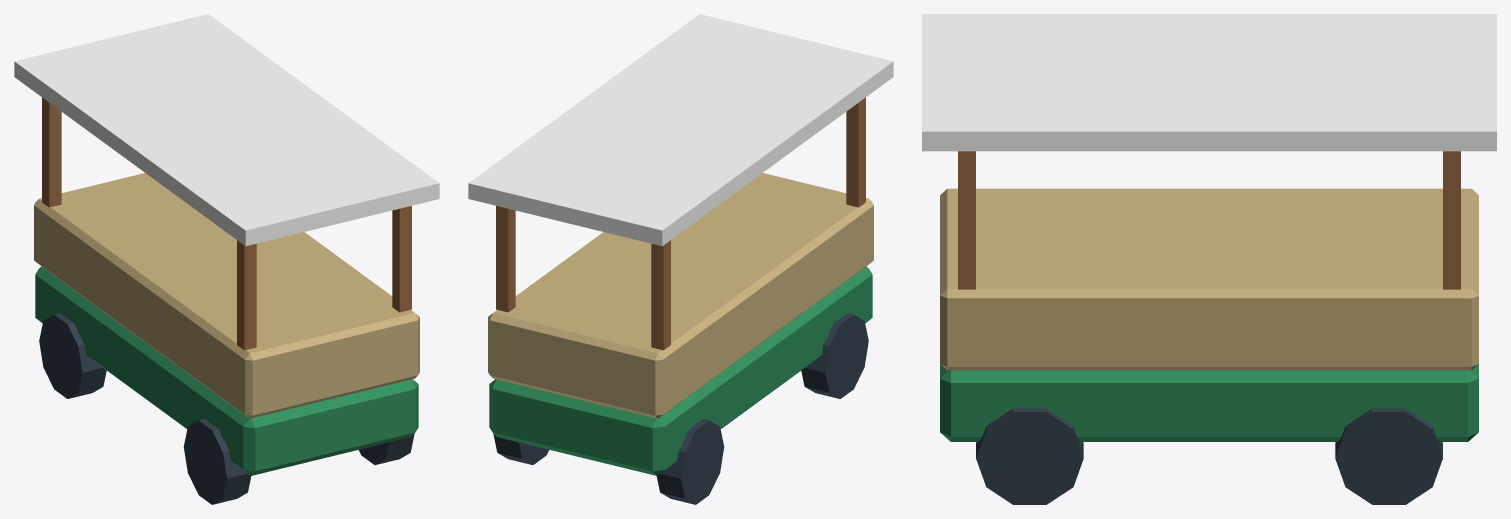
File: tram_car.fbx
3 views of the same model, side by side, from view 1: azimuth 30°, elevation 25°; view 2: azimuth 150°, elevation 25°; view 3: azimuth 270°, elevation 25° (orthographic). The views are drawn at different scales.
Visible parts, largest first — view 1: tram_car; view 2: tram_car; view 3: tram_car.
Part boxes in pixels (box(x1,y1,x2,y2)): tram_car: box(14, 14, 439, 504); tram_car: box(468, 14, 893, 504); tram_car: box(922, 14, 1496, 504).
Bounding box in the file's own units: 1.55 × 2.31 × 3.2.
